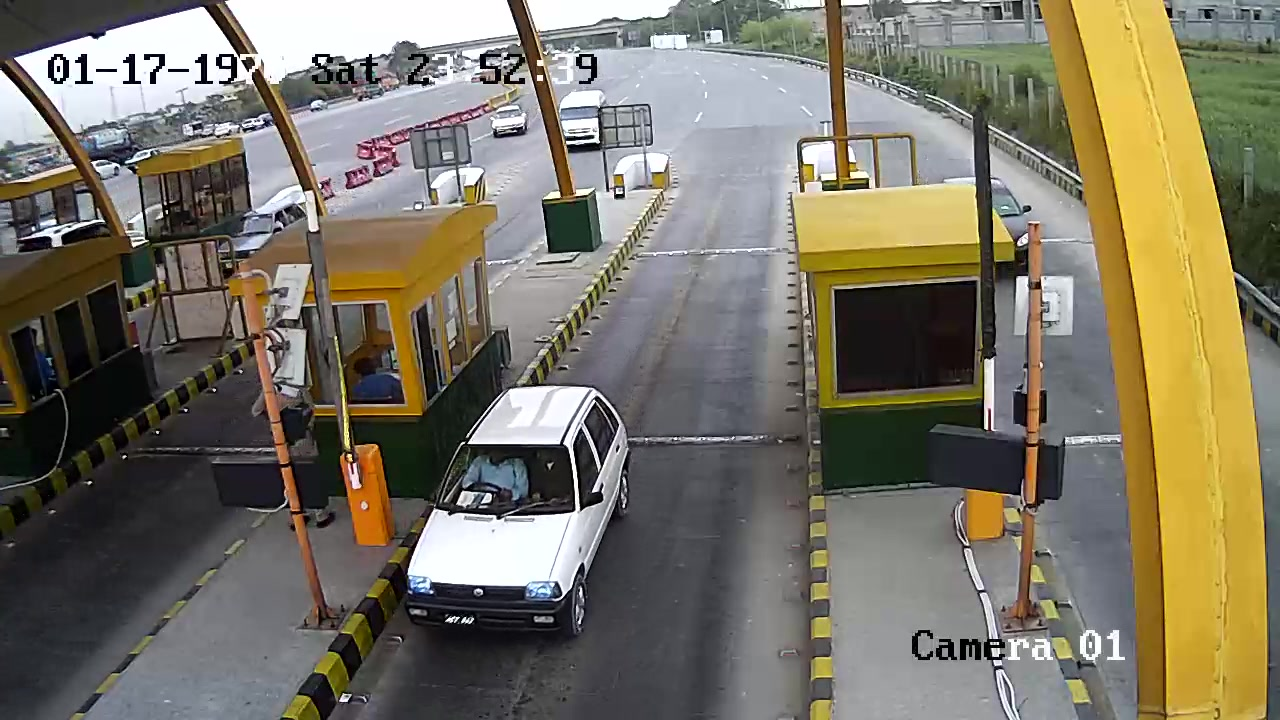F1: (407, 368, 640, 645)
